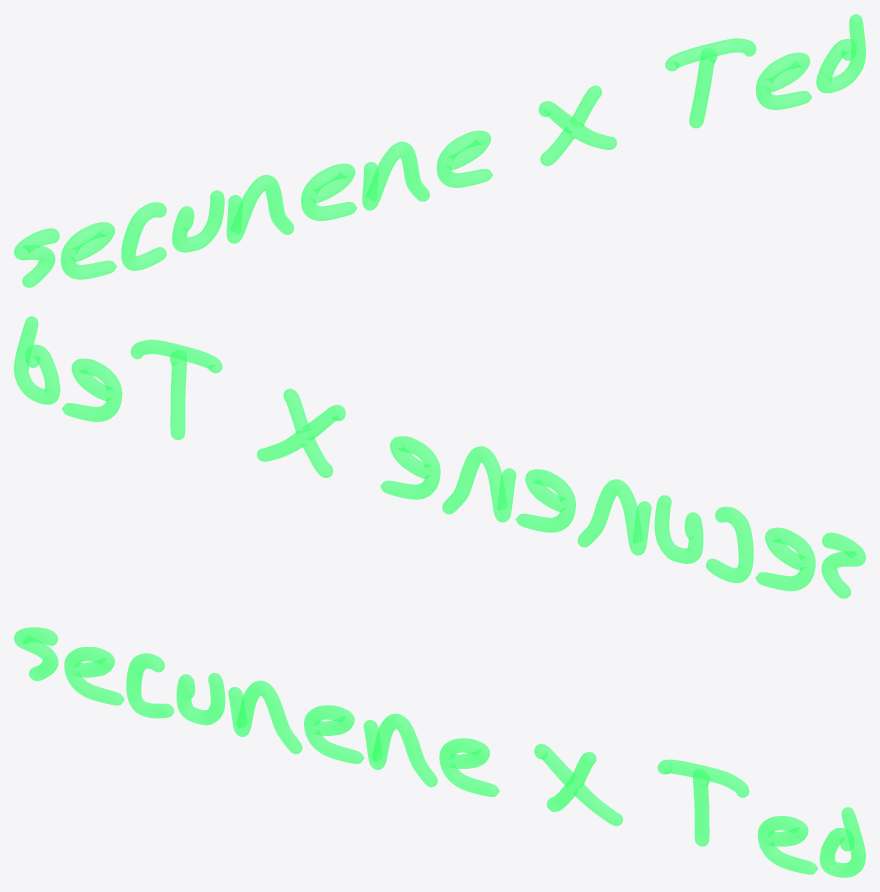
The model's file is secunene.glb.
3 views of the same model, one above another, from view 1: azimuth 30°, elevation 25°; view 2: azimuth 150°, elevation 25°; view 3: azimuth 330°, elevation 25° (orthographic).
Visible parts, largest first — view 1: Text; view 2: Text; view 3: Text.
Part boxes in pixels (bbox=[...]): Text: bbox=[14, 14, 865, 287]; Text: bbox=[14, 316, 865, 598]; Text: bbox=[14, 627, 865, 877].
Size of the model in its own units: 6.4 by 0.6813 by 0.1854.
